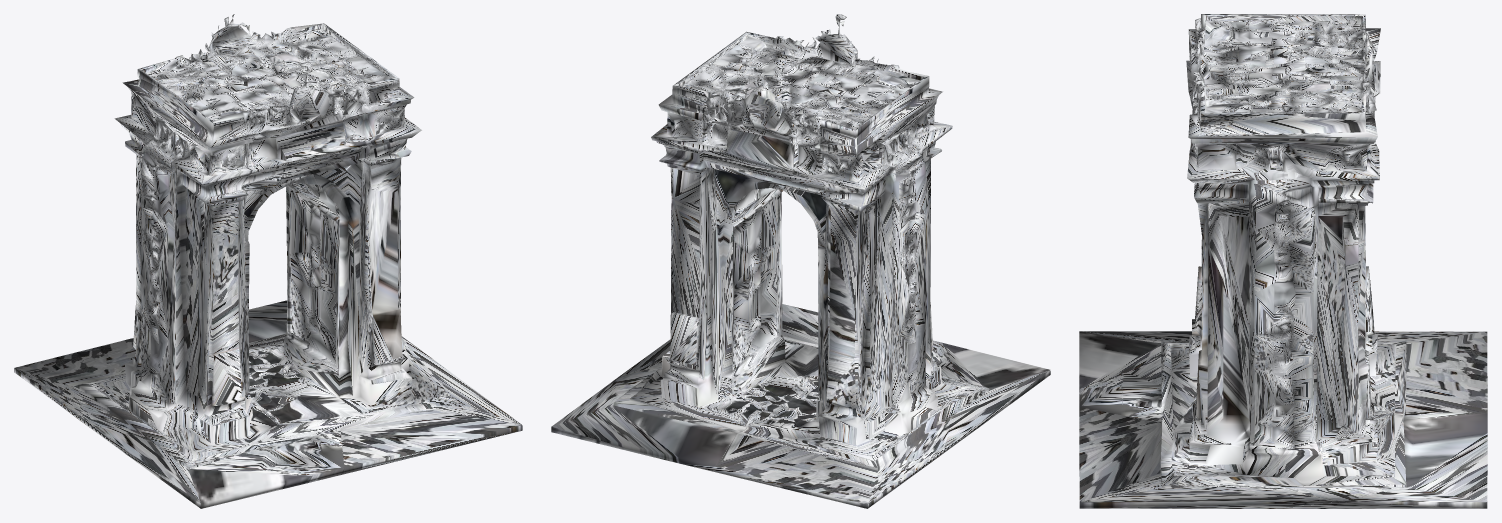
The model's file is Subject_A_commemorat.glb.
3 views of the same model, side by side, from view 1: azimuth 30°, elevation 25°; view 2: azimuth 150°, elevation 25°; view 3: azimuth 270°, elevation 25° (orthographic). The views are drawn at different scales.
Visible parts, largest first — view 1: Subject_A_commemorat; view 2: Subject_A_commemorat; view 3: Subject_A_commemorat.
Boxes of the visible parts, x1,y1,x2,y2 form: Subject_A_commemorat: [14, 14, 522, 508]; Subject_A_commemorat: [551, 14, 1050, 508]; Subject_A_commemorat: [1079, 14, 1487, 508].
Size of the model in its own units: 1.82 by 1.99 by 1.83.
1 material, 1 textured.
